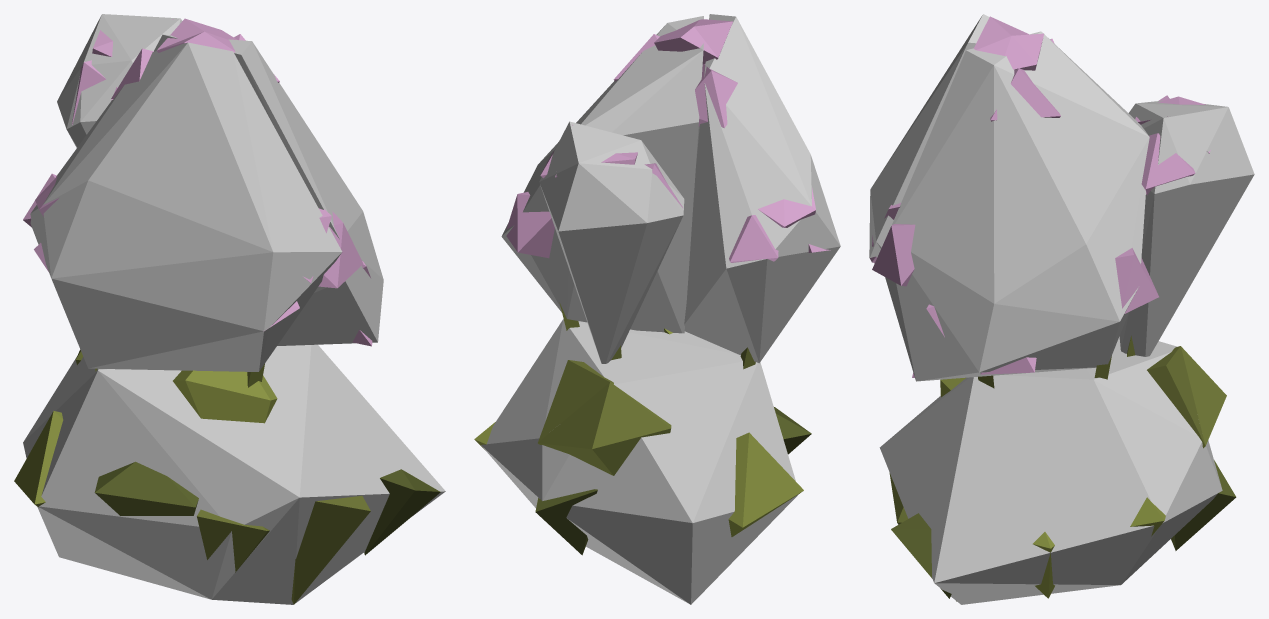
Rendered from SM_Env_Flowers_11.fbx.
3 views of the same model, side by side, from view 1: azimuth 30°, elevation 25°; view 2: azimuth 150°, elevation 25°; view 3: azimuth 270°, elevation 25° (orthographic). The views are drawn at different scales.
Visible parts, largest first — view 1: SM_Env_Flowers_11_ConvexHulls, SM_Env_Flowers_11; view 2: SM_Env_Flowers_11_ConvexHulls, SM_Env_Flowers_11; view 3: SM_Env_Flowers_11_ConvexHulls, SM_Env_Flowers_11.
Boxes of the visible parts, <box> form: SM_Env_Flowers_11_ConvexHulls: <box>23,14,445,604</box>; SM_Env_Flowers_11: <box>14,18,440,604</box>; SM_Env_Flowers_11_ConvexHulls: <box>481,14,840,604</box>; SM_Env_Flowers_11: <box>474,19,830,555</box>; SM_Env_Flowers_11_ConvexHulls: <box>869,14,1254,604</box>; SM_Env_Flowers_11: <box>870,16,1236,601</box>.
Bounding box in the file's own units: 65.62 × 64.51 × 101.
2 materials, 1 textured.
